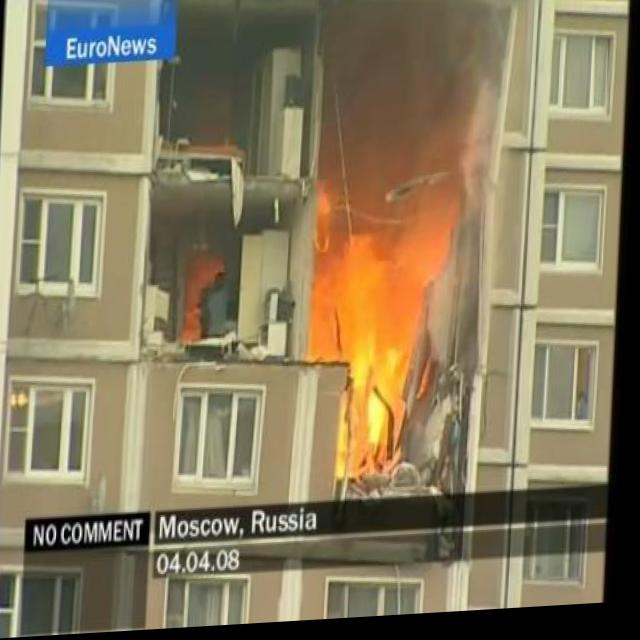fire: (311, 182, 425, 481)
